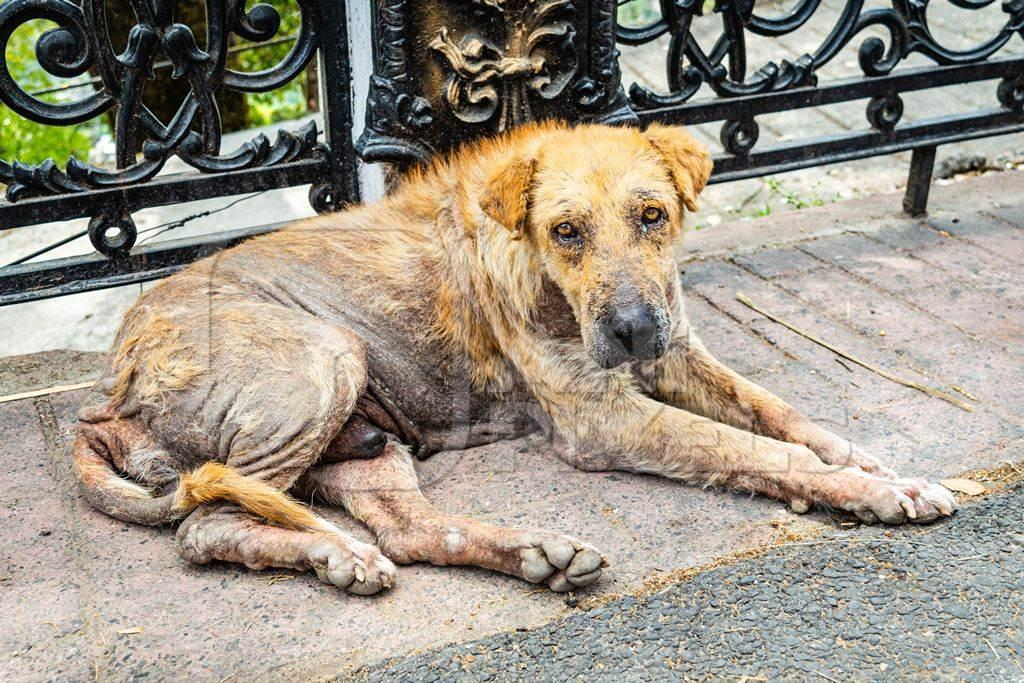infection: (218, 254, 494, 393)
